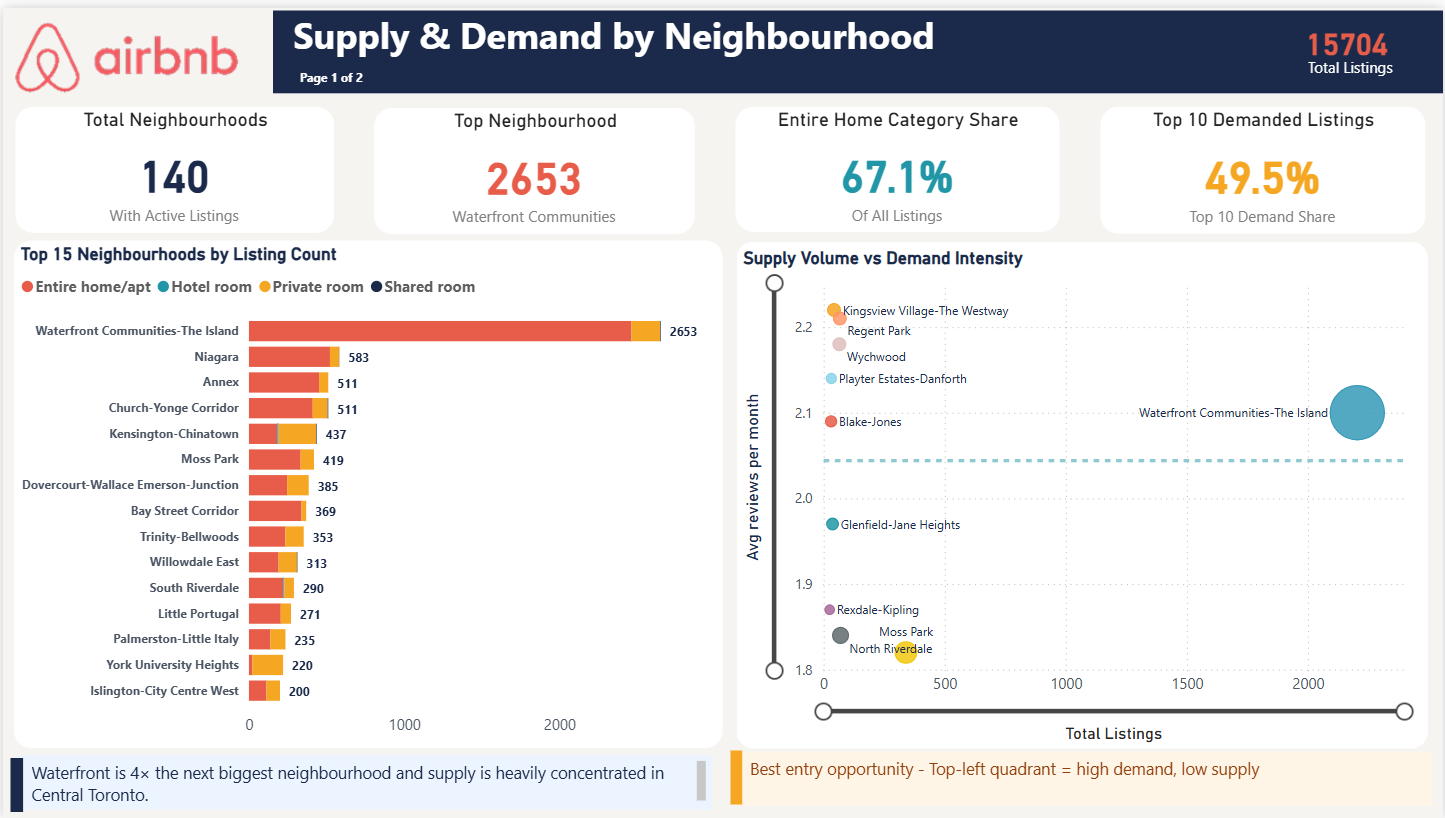

Layout of this report page (visuals, bound fields, positions):
{"tool":"powerbi","page":{"name":"Neighbourhood Demand and Supply","canvas":[1280,720],"ordinal":0},"visuals":[{"type":"barChart","title":"Top 15 Neighbourhoods by Listing Count","fields":{"Category":["Top 15 Neighbourhoods.neighbourhood"],"Y":["Sum(Top 15 Neighbourhoods.listing_count)"],"Series":["Top 15 Neighbourhoods.room_type"]},"box":[10.5,206.9,629.8,451],"z":0},{"type":"textbox","box":[649.1,661.9,620.4,47.6],"z":0,"group":"g3"},{"type":"textbox","box":[11.6,664.1,618.9,47.6],"z":0,"group":"g1"},{"type":"scatterChart","title":"Supply Volume vs Demand Intensity","fields":{"Series":["Demand/ Supply.Neighbourhood"],"X":["Sum(Demand/ Supply.listing_count)"],"Y":["Avg(Demand/ Supply.avg_rpm)"],"Size":["Sum(Demand/ Supply.total_reviews)"]},"box":[652.2,207.7,614.6,450.1],"z":1000},{"type":"textbox","box":[646.2,660.5,5.8,47.6],"z":1000,"group":"g3"},{"type":"textbox","box":[7.2,665.8,11.5,47.6],"z":1000,"group":"g1"},{"type":"textbox","box":[240,2,1040.2,73.6],"z":2000,"group":"g2"},{"type":"group","id":"g1","title":"Group 1","box":[7.2,664.1,623.3,49.3],"z":2000},{"type":"card","title":"Total Neighbourhoods","fields":{"Values":["Sum(KPIs.total_neighbourhoods)"]},"box":[11,88,283,112],"z":3000},{"type":"card","title":"Top Neighbourhood","fields":{"Values":["Sum(KPIs.top_neighbourhood_count)"]},"box":[330.1,88.3,285,111.7],"z":4000},{"type":"card","title":"Entire Home Category Share ","fields":{"Values":["Min(KPIs.entire_home_pct)"]},"box":[651.2,88,288,111],"z":5000},{"type":"card","title":"Top 10 Demanded Listings","fields":{"Values":["Min(KPIs.top10_demand_share_pct)"]},"box":[975.3,88,288.6,112.5],"z":6000},{"type":"group","id":"g2","title":"Group 2","box":[240,2,1040.2,73.6],"z":7000},{"type":"card","fields":{"Values":["Sum(KPIs.total_listings)"]},"box":[1152.5,14.5,83.8,32.5],"z":8000,"group":"g2"},{"type":"group","id":"g3","title":"Group 1","box":[646.2,660.5,623.3,49.1],"z":8000},{"type":"textbox","box":[258.7,46.7,72,28.7],"z":9000},{"type":"textbox","box":[1157.5,42.5,90,26.2],"z":10000}]}

Visuals, with their boxes in screenshot pixels (x1, y1, x2, y2), scaled from the page's 1280x720 canvas onto the 1445x818 screenshot:
"Top 15 Neighbourhoods by Listing Count" barChart: (12,235,723,747)
textbox: (733,752,1433,806)
textbox: (13,754,712,809)
"Supply Volume vs Demand Intensity" scatterChart: (736,236,1430,747)
textbox: (729,750,736,804)
textbox: (8,756,21,811)
textbox: (271,2,1444,86)
"Group 1" group: (8,754,712,811)
"Total Neighbourhoods" card: (12,100,332,227)
"Top Neighbourhood" card: (373,100,694,227)
"Entire Home Category Share " card: (735,100,1060,226)
"Top 10 Demanded Listings" card: (1101,100,1427,228)
"Group 2" group: (271,2,1444,86)
card - Sum(KPIs.total_listings): (1301,16,1396,53)
"Group 1" group: (729,750,1433,806)
textbox: (292,53,373,86)
textbox: (1307,48,1408,78)
